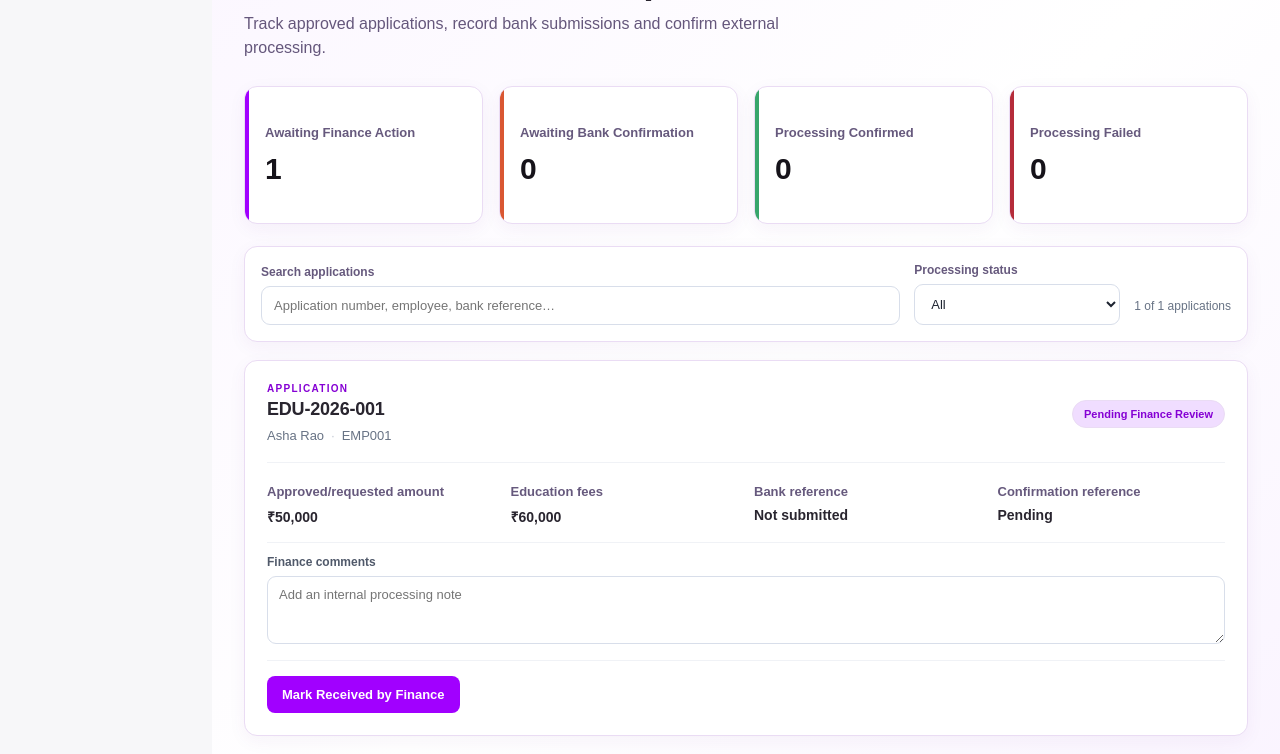
Scenario: FinanceDashboardPage › surfaces a Finance action failure without pretending the action succeeded
(page scrolled)
Expected: the heading "EDU-2026-001" is shown, [267,399,392,420]
Click the button "Mark Received by Finance" at coordinates (363, 695), box [267,676,460,713]
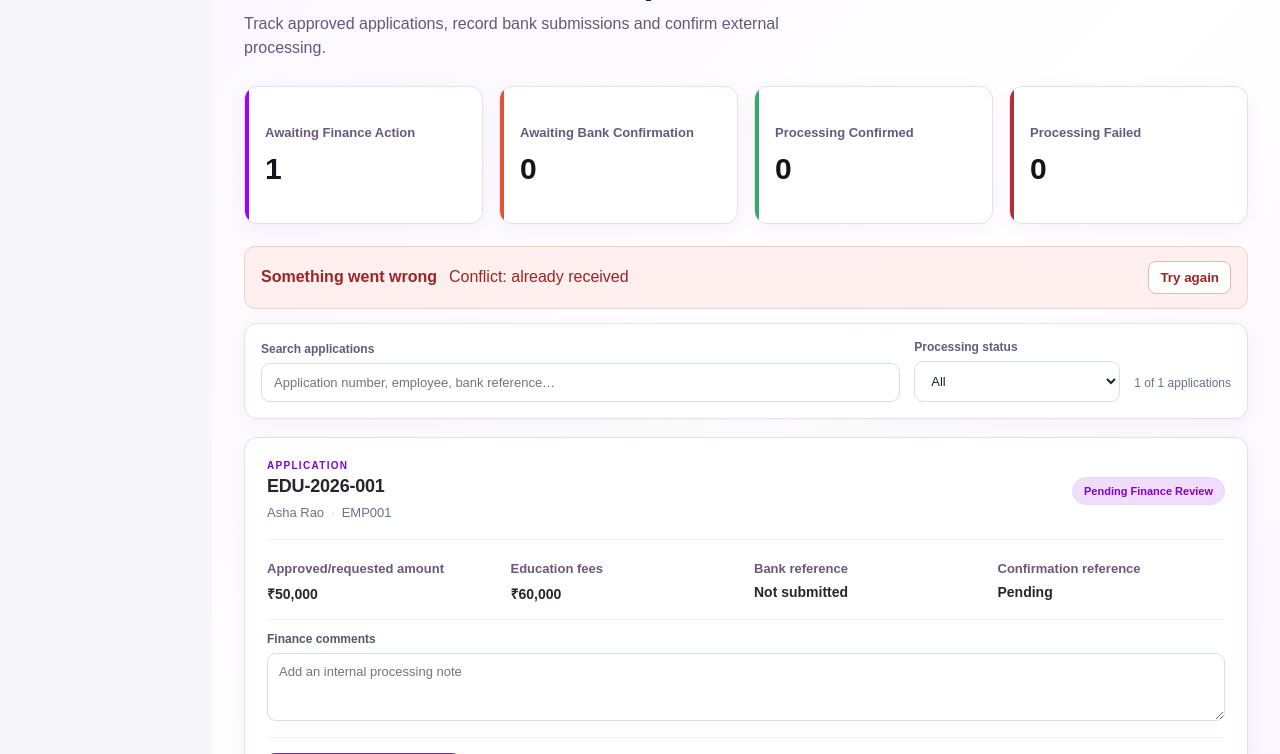
Result: the message shows "already received" at [449,268,629,285]
